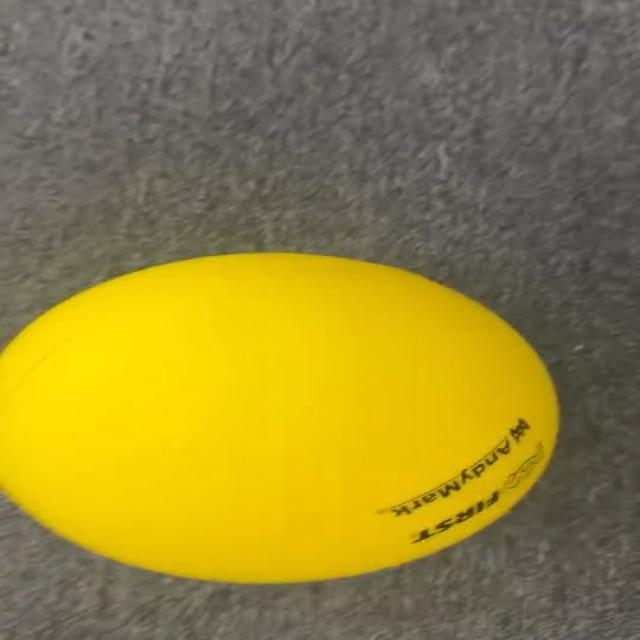Fuels: (3, 254, 556, 580)
